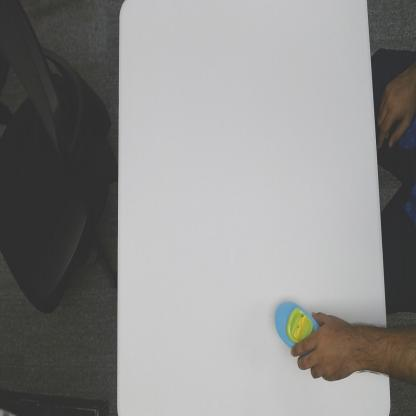Arm: (354, 324, 388, 374)
Boat: (273, 298, 321, 348)
Hand: (291, 309, 353, 384)
